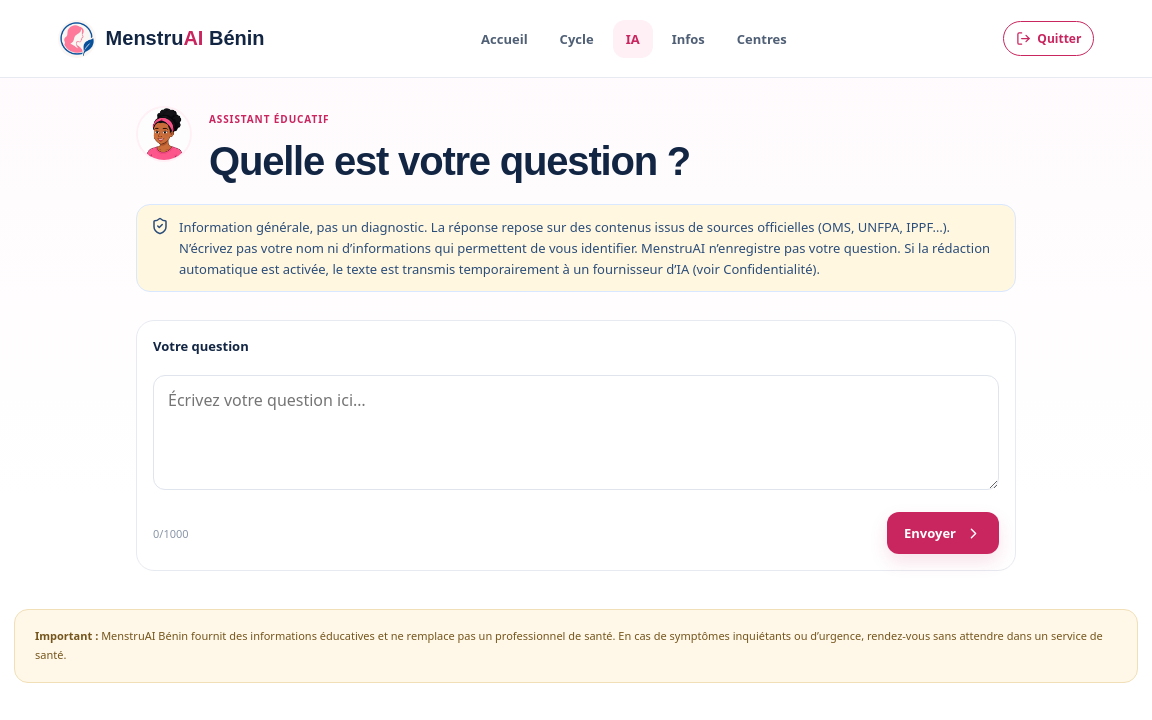
Test: MenstruAI frontend › met en évidence l’orientation de sécurité
Type "douleur insupportable" into the text box labelled "Votre question" at (576, 433), box [153,375,999,490]
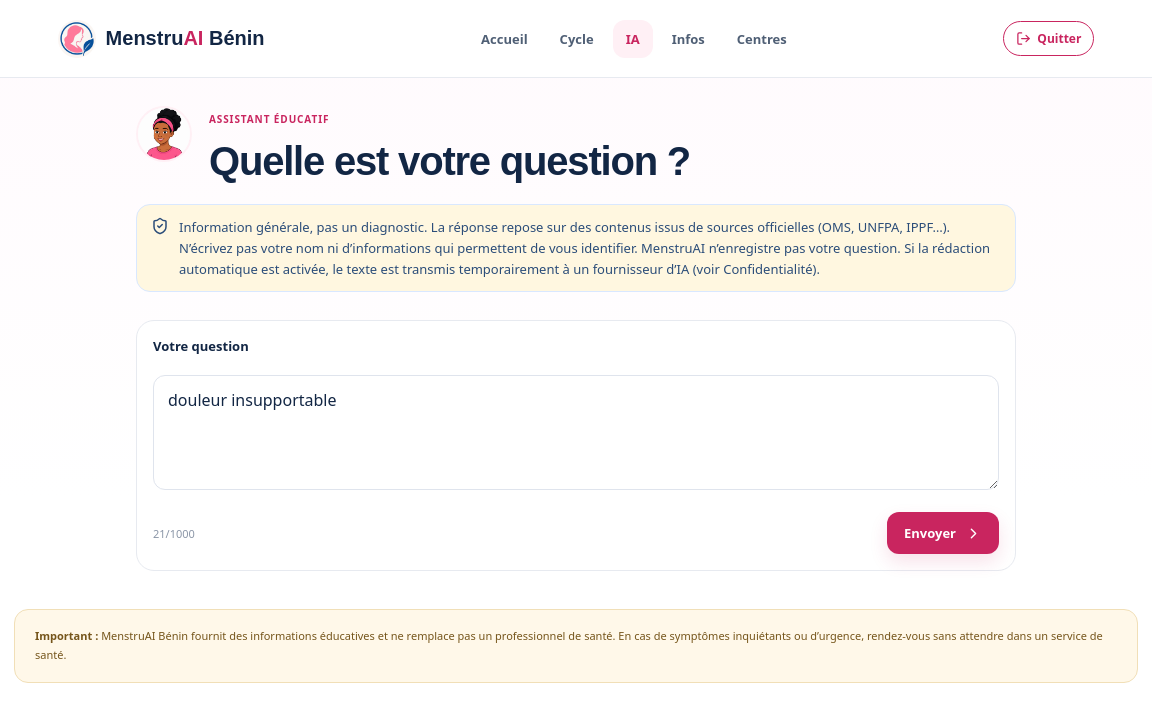
Click the button "Envoyer" at (943, 533), box [887,512,999,554]
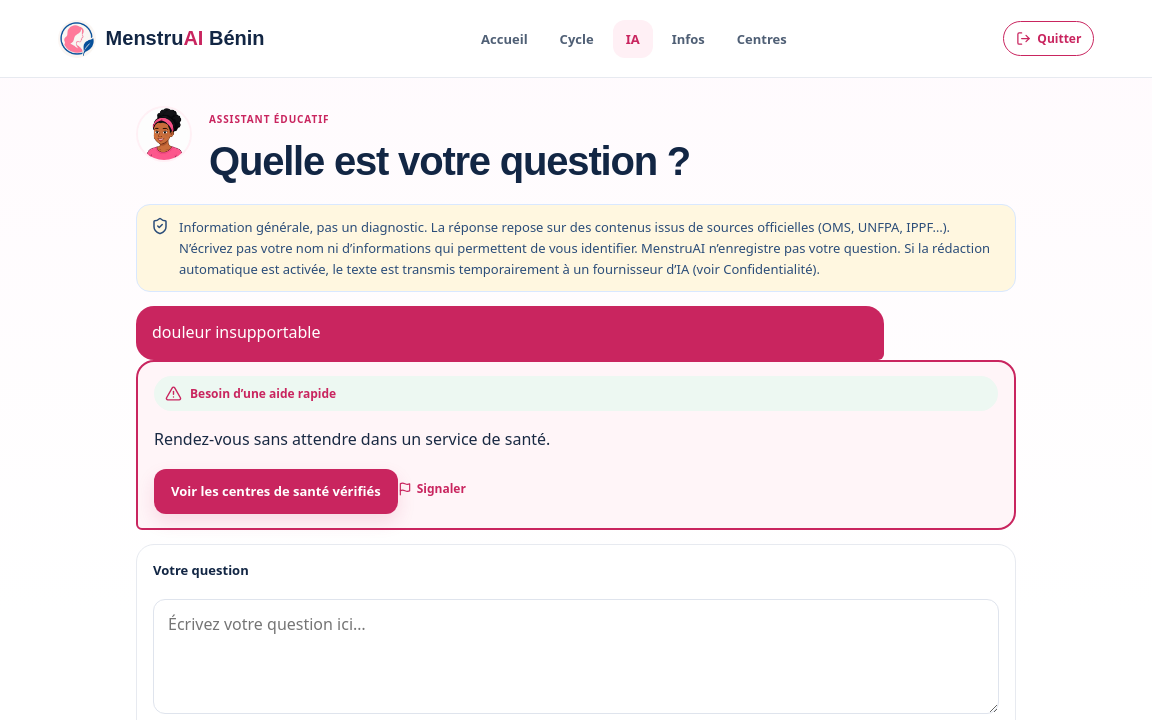
Result: the message shows "aide rapide" at [190,385,336,402]
